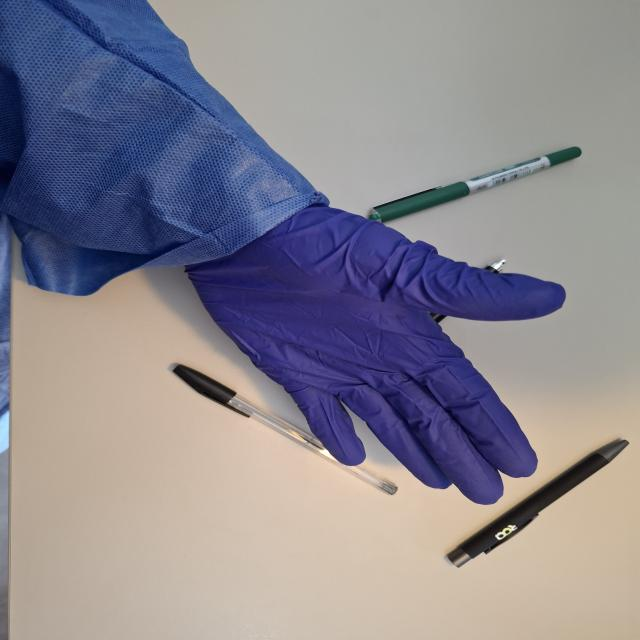glove_on: (179, 194, 570, 507)
